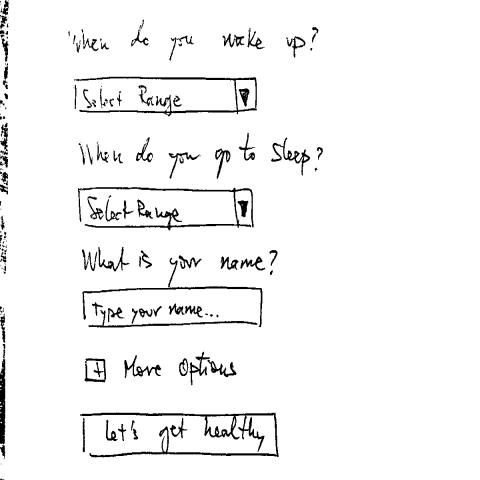Button: (80, 408, 280, 462)
Select: (78, 184, 258, 232), (72, 74, 260, 119)
